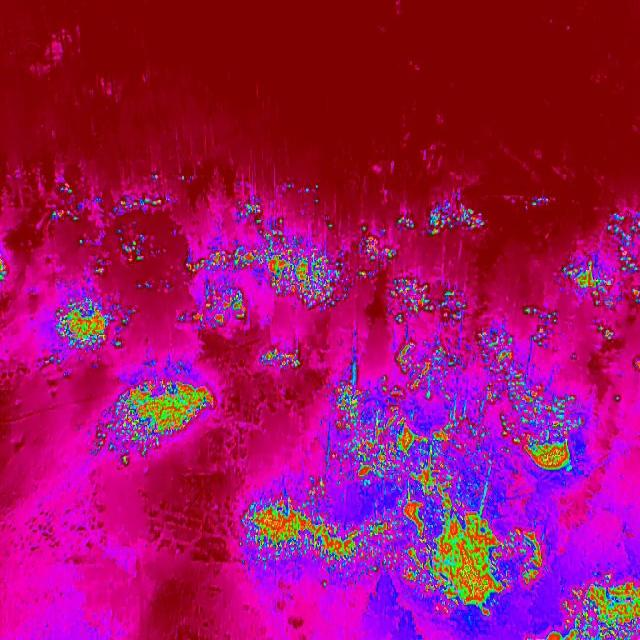fire: (182, 202, 398, 337), (376, 494, 552, 620), (470, 304, 588, 478), (233, 480, 376, 601), (92, 357, 227, 464), (52, 180, 190, 280), (552, 208, 640, 349), (532, 565, 640, 640), (327, 380, 392, 478), (49, 294, 132, 355), (394, 331, 468, 399), (388, 270, 470, 330), (394, 196, 494, 243), (253, 334, 309, 378), (426, 414, 474, 458), (401, 458, 453, 498), (392, 418, 423, 458), (46, 354, 79, 384), (526, 188, 554, 214), (390, 398, 412, 418), (0, 253, 10, 284), (633, 358, 640, 374)
